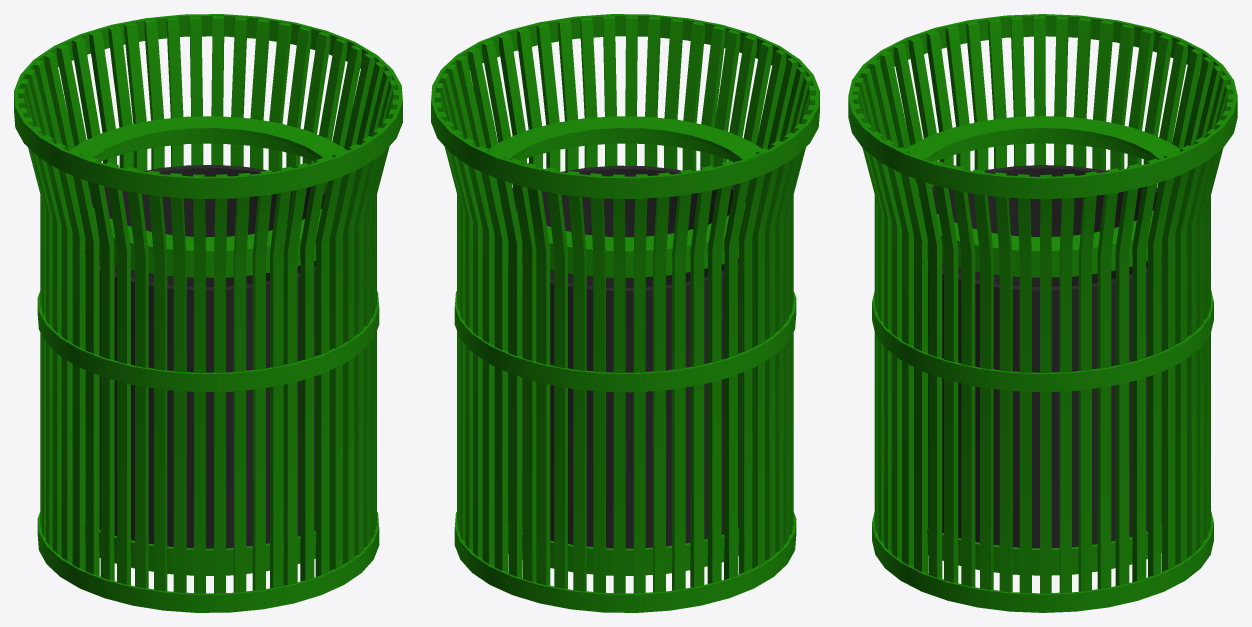
File: trash_can__low_poly__free.glb
The picture shows the model from 3 angles, left to right: view 1: azimuth 30°, elevation 25°; view 2: azimuth 150°, elevation 25°; view 3: azimuth 270°, elevation 25°; orthographic projection.
Visible parts, largest first — view 1: Park_TrashCan; view 2: Park_TrashCan; view 3: Park_TrashCan.
Boxes of the visible parts, bbox=[...] form: Park_TrashCan: bbox=[14, 14, 402, 612]; Park_TrashCan: bbox=[431, 14, 819, 612]; Park_TrashCan: bbox=[848, 14, 1237, 612].
Size of the model in its own units: 4.33 by 5.45 by 4.33.
1 material, 1 textured.
